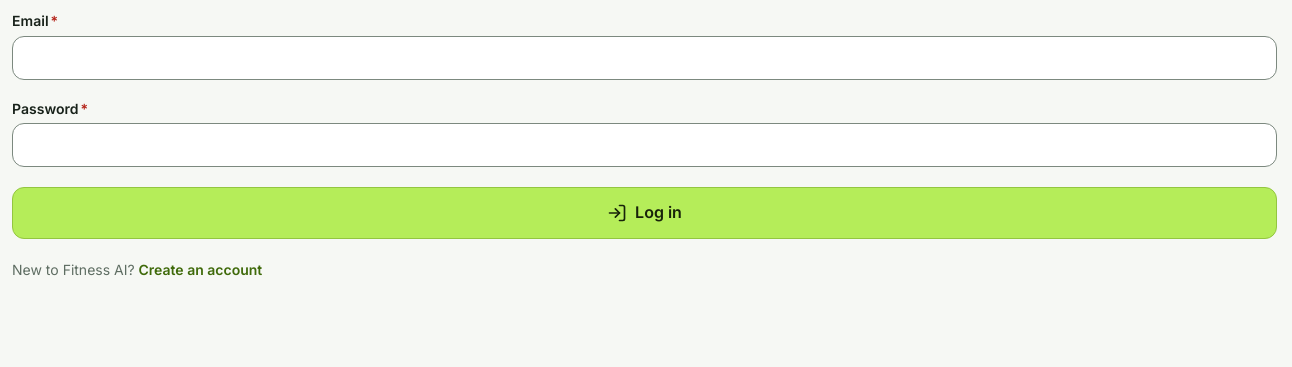
Test: LoginForm › shows the generic message for wrong credentials and stays on the page
Type "alex@example.com" into the field labelled "Email" at (644,58), box [12,36,1277,80]
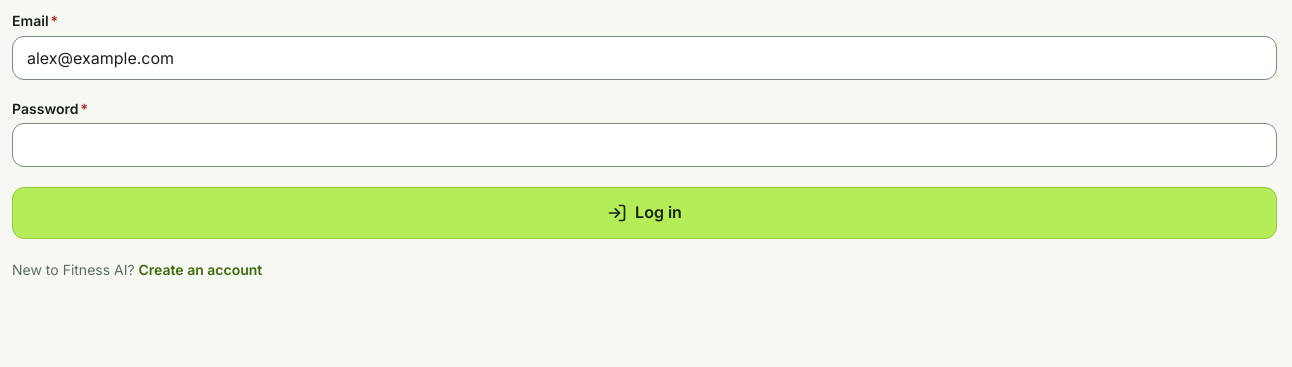
Type "wrong password!" into the password field labelled "Password" at (644,145), box [12,123,1277,167]
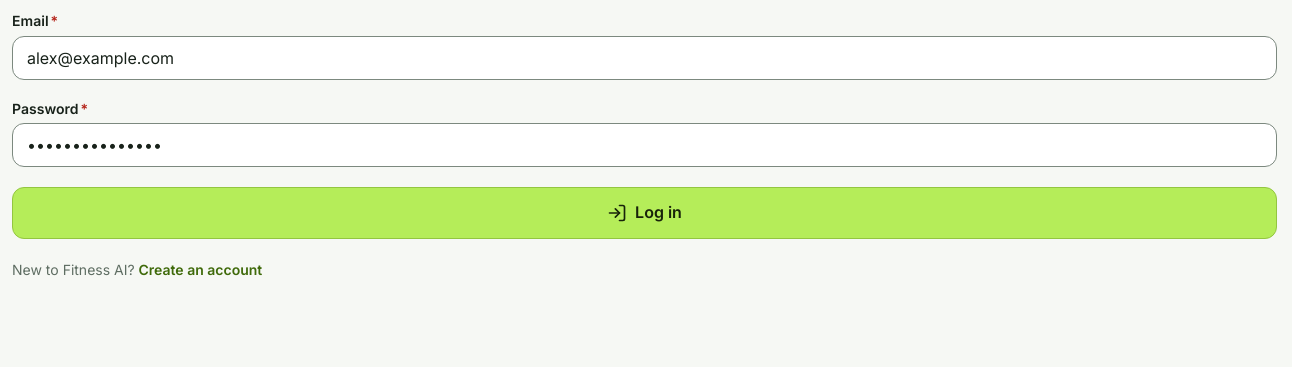
Click the button "Log in" at (644,213), box [12,187,1277,239]
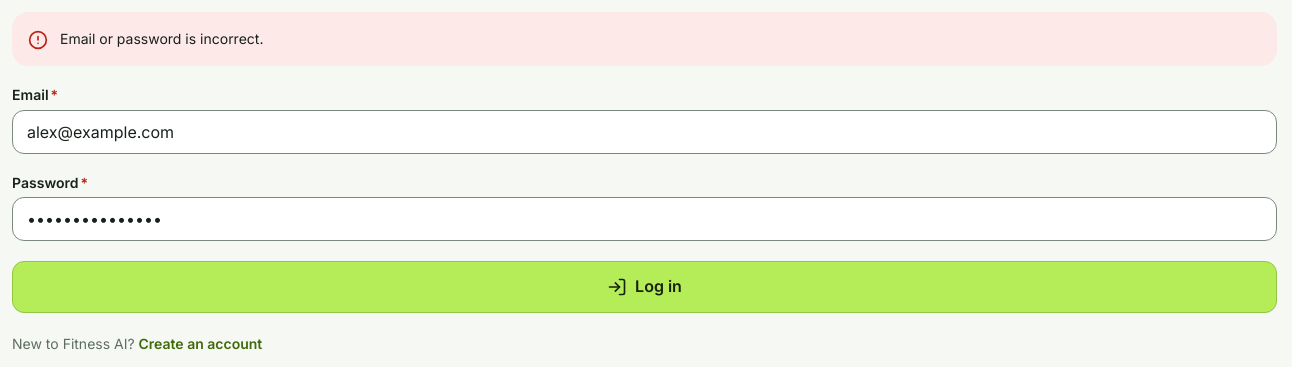
Check: the message reads "Email or password is incorrect.", box [60,30,263,47]
